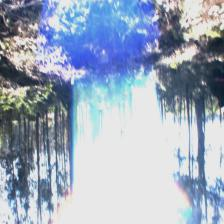trunktrack_idkeyframe: (194, 100, 205, 174)
